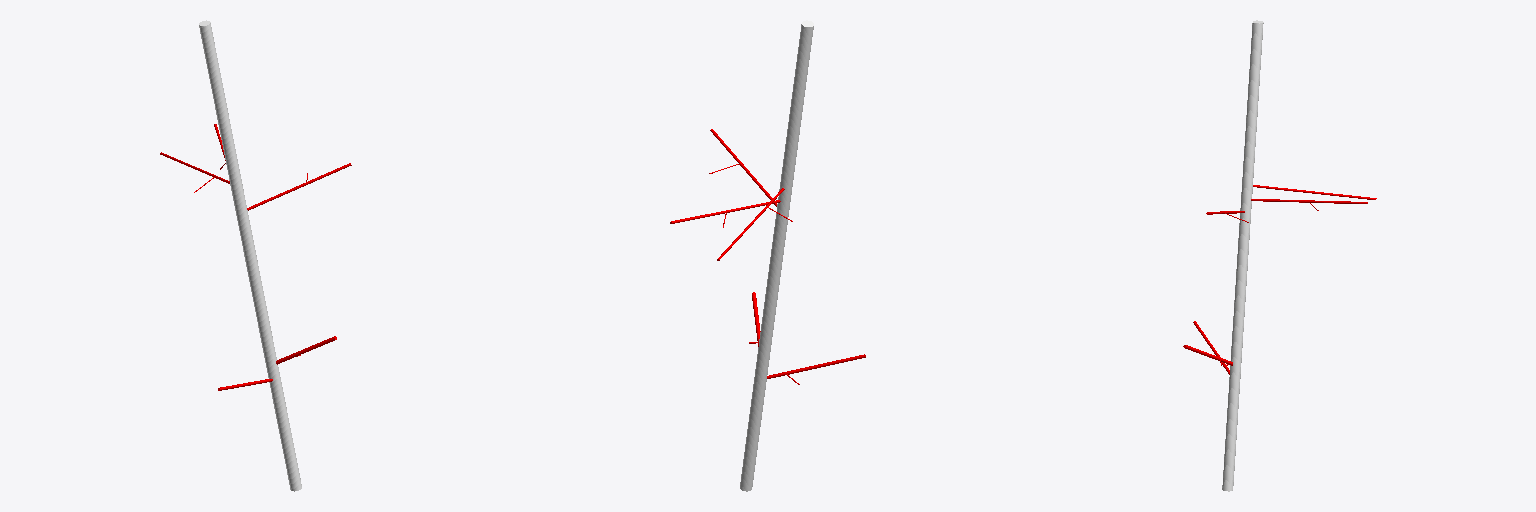
The robot description file, URDF, robot "tree_63.urdf":
<?xml version='1.0' encoding='UTF-8'?>
<robot name="tree_63.urdf">
  <link name="branch_0">
    <inertial>
      <origin xyz="0.0 0.0 0.0" rpy="0.0 -0.0 0.0"/>
      <mass value="0.1"/>
      <inertia ixx="0.001" ixy="0.0" ixz="0.0" iyy="0.001" iyz="0.0" izz="0.001"/>
    </inertial>
    <visual name="branch_0_visual">
      <geometry>
        <cylinder radius="0.12105753713156306" length="10.631295363433491"/>
      </geometry>
      <material name="branch_material"/>
      <origin xyz="-0.8742724112654354 0.33177418045635165 5.232751085253649" rpy="6.487470581802126e-18 0.1768362390169329 2.778894823752158"/>
    </visual>
    <collision name="branch_0_collision">
      <geometry>
        <cylinder radius="0.12105753713156306" length="10.631295363433491"/>
      </geometry>
      <origin xyz="-0.8742724112654354 0.33177418045635165 5.232751085253649" rpy="6.487470581802126e-18 0.1768362390169329 2.778894823752158"/>
    </collision>
  </link>
  <link name="branch_1">
    <inertial>
      <origin xyz="0.0 0.0 0.0" rpy="0.0 -0.0 0.0"/>
      <mass value="0.1"/>
      <inertia ixx="0.001" ixy="0.0" ixz="0.0" iyy="0.001" iyz="0.0" izz="0.001"/>
    </inertial>
    <visual name="branch_1_visual">
      <geometry>
        <cylinder radius="0.04098044504383719" length="1.6309681710873474"/>
      </geometry>
      <material name="semantic_material"/>
      <origin xyz="0.0 0.0 0.0" rpy="0.0 -0.0 0.0"/>
    </visual>
    <collision name="branch_1_collision">
      <geometry>
        <cylinder radius="0.04098044504383719" length="1.6309681710873474"/>
      </geometry>
      <origin xyz="0.0 0.0 0.0" rpy="0.0 -0.0 0.0"/>
    </collision>
  </link>
  <link name="branch_2">
    <inertial>
      <origin xyz="0.0 0.0 0.0" rpy="0.0 -0.0 0.0"/>
      <mass value="0.1"/>
      <inertia ixx="0.001" ixy="0.0" ixz="0.0" iyy="0.001" iyz="0.0" izz="0.001"/>
    </inertial>
    <visual name="branch_2_visual">
      <geometry>
        <cylinder radius="0.013123620799043575" length="0.22841701833227765"/>
      </geometry>
      <material name="semantic_material"/>
      <origin xyz="0.0 0.0 0.0" rpy="0.0 -0.0 0.0"/>
    </visual>
    <collision name="branch_2_collision">
      <geometry>
        <cylinder radius="0.013123620799043575" length="0.22841701833227765"/>
      </geometry>
      <origin xyz="0.0 0.0 0.0" rpy="0.0 -0.0 0.0"/>
    </collision>
  </link>
  <link name="branch_3">
    <inertial>
      <origin xyz="0.0 0.0 0.0" rpy="0.0 -0.0 0.0"/>
      <mass value="0.1"/>
      <inertia ixx="0.001" ixy="0.0" ixz="0.0" iyy="0.001" iyz="0.0" izz="0.001"/>
    </inertial>
    <visual name="branch_3_visual">
      <geometry>
        <cylinder radius="0.025696873363791516" length="2.8463541751777583"/>
      </geometry>
      <material name="semantic_material"/>
      <origin xyz="0.0 0.0 0.0" rpy="0.0 -0.0 0.0"/>
    </visual>
    <collision name="branch_3_collision">
      <geometry>
        <cylinder radius="0.025696873363791516" length="2.8463541751777583"/>
      </geometry>
      <origin xyz="0.0 0.0 0.0" rpy="0.0 -0.0 0.0"/>
    </collision>
  </link>
  <link name="branch_4">
    <inertial>
      <origin xyz="0.0 0.0 0.0" rpy="0.0 -0.0 0.0"/>
      <mass value="0.1"/>
      <inertia ixx="0.001" ixy="0.0" ixz="0.0" iyy="0.001" iyz="0.0" izz="0.001"/>
    </inertial>
    <visual name="branch_4_visual">
      <geometry>
        <cylinder radius="0.01" length="0.5804595315938993"/>
      </geometry>
      <material name="semantic_material"/>
      <origin xyz="0.0 0.0 0.0" rpy="0.0 -0.0 0.0"/>
    </visual>
    <collision name="branch_4_collision">
      <geometry>
        <cylinder radius="0.01" length="0.5804595315938993"/>
      </geometry>
      <origin xyz="0.0 0.0 0.0" rpy="0.0 -0.0 0.0"/>
    </collision>
  </link>
  <link name="branch_5">
    <inertial>
      <origin xyz="0.0 0.0 0.0" rpy="0.0 -0.0 0.0"/>
      <mass value="0.1"/>
      <inertia ixx="0.001" ixy="0.0" ixz="0.0" iyy="0.001" iyz="0.0" izz="0.001"/>
    </inertial>
    <visual name="branch_5_visual">
      <geometry>
        <cylinder radius="0.03337588684137949" length="2.083547441703245"/>
      </geometry>
      <material name="semantic_material"/>
      <origin xyz="0.0 0.0 0.0" rpy="0.0 -0.0 0.0"/>
    </visual>
    <collision name="branch_5_collision">
      <geometry>
        <cylinder radius="0.03337588684137949" length="2.083547441703245"/>
      </geometry>
      <origin xyz="0.0 0.0 0.0" rpy="0.0 -0.0 0.0"/>
    </collision>
  </link>
  <link name="branch_6">
    <inertial>
      <origin xyz="0.0 0.0 0.0" rpy="0.0 -0.0 0.0"/>
      <mass value="0.1"/>
      <inertia ixx="0.001" ixy="0.0" ixz="0.0" iyy="0.001" iyz="0.0" izz="0.001"/>
    </inertial>
    <visual name="branch_6_visual">
      <geometry>
        <cylinder radius="0.012158262400863913" length="0.4279583426136886"/>
      </geometry>
      <material name="semantic_material"/>
      <origin xyz="0.0 0.0 0.0" rpy="0.0 -0.0 0.0"/>
    </visual>
    <collision name="branch_6_collision">
      <geometry>
        <cylinder radius="0.012158262400863913" length="0.4279583426136886"/>
      </geometry>
      <origin xyz="0.0 0.0 0.0" rpy="0.0 -0.0 0.0"/>
    </collision>
  </link>
  <link name="branch_7">
    <inertial>
      <origin xyz="0.0 0.0 0.0" rpy="0.0 -0.0 0.0"/>
      <mass value="0.1"/>
      <inertia ixx="0.001" ixy="0.0" ixz="0.0" iyy="0.001" iyz="0.0" izz="0.001"/>
    </inertial>
    <visual name="branch_7_visual">
      <geometry>
        <cylinder radius="0.026980228412329485" length="2.8474984216901804"/>
      </geometry>
      <material name="semantic_material"/>
      <origin xyz="0.0 0.0 0.0" rpy="0.0 -0.0 0.0"/>
    </visual>
    <collision name="branch_7_collision">
      <geometry>
        <cylinder radius="0.026980228412329485" length="2.8474984216901804"/>
      </geometry>
      <origin xyz="0.0 0.0 0.0" rpy="0.0 -0.0 0.0"/>
    </collision>
  </link>
  <link name="branch_8">
    <inertial>
      <origin xyz="0.0 0.0 0.0" rpy="0.0 -0.0 0.0"/>
      <mass value="0.1"/>
      <inertia ixx="0.001" ixy="0.0" ixz="0.0" iyy="0.001" iyz="0.0" izz="0.001"/>
    </inertial>
    <visual name="branch_8_visual">
      <geometry>
        <cylinder radius="0.010521007544785865" length="0.32619024007486686"/>
      </geometry>
      <material name="semantic_material"/>
      <origin xyz="0.0 0.0 0.0" rpy="0.0 -0.0 0.0"/>
    </visual>
    <collision name="branch_8_collision">
      <geometry>
        <cylinder radius="0.010521007544785865" length="0.32619024007486686"/>
      </geometry>
      <origin xyz="0.0 0.0 0.0" rpy="0.0 -0.0 0.0"/>
    </collision>
  </link>
  <link name="branch_9">
    <inertial>
      <origin xyz="0.0 0.0 0.0" rpy="0.0 -0.0 0.0"/>
      <mass value="0.1"/>
      <inertia ixx="0.001" ixy="0.0" ixz="0.0" iyy="0.001" iyz="0.0" izz="0.001"/>
    </inertial>
    <visual name="branch_9_visual">
      <geometry>
        <cylinder radius="0.029510606303493444" length="2.403753368571655"/>
      </geometry>
      <material name="semantic_material"/>
      <origin xyz="0.0 0.0 0.0" rpy="0.0 -0.0 0.0"/>
    </visual>
    <collision name="branch_9_collision">
      <geometry>
        <cylinder radius="0.029510606303493444" length="2.403753368571655"/>
      </geometry>
      <origin xyz="0.0 0.0 0.0" rpy="0.0 -0.0 0.0"/>
    </collision>
  </link>
  <link name="branch_10">
    <inertial>
      <origin xyz="0.0 0.0 0.0" rpy="0.0 -0.0 0.0"/>
      <mass value="0.1"/>
      <inertia ixx="0.001" ixy="0.0" ixz="0.0" iyy="0.001" iyz="0.0" izz="0.001"/>
    </inertial>
    <visual name="branch_10_visual">
      <geometry>
        <cylinder radius="0.01" length="0.6733586346667695"/>
      </geometry>
      <material name="semantic_material"/>
      <origin xyz="0.0 0.0 0.0" rpy="0.0 -0.0 0.0"/>
    </visual>
    <collision name="branch_10_collision">
      <geometry>
        <cylinder radius="0.01" length="0.6733586346667695"/>
      </geometry>
      <origin xyz="0.0 0.0 0.0" rpy="0.0 -0.0 0.0"/>
    </collision>
  </link>
  <joint name="joint_0_1" type="fixed">
    <parent link="branch_0"/>
    <child link="branch_1"/>
    <axis xyz="1. 0. 0."/>
    <origin xyz="-0.0472953099877762 -0.3804571109466158 3.2125111162808495" rpy="0.16613502835091457 1.0167059965463214 -0.7317422359806786"/>
  </joint>
  <joint name="joint_0_3" type="fixed">
    <parent link="branch_0"/>
    <child link="branch_3"/>
    <axis xyz="1. 0. 0."/>
    <origin xyz="-1.2000182531723647 1.8399846735488168 6.615396963742027" rpy="-2.285150919158782 1.35688445223738 -0.6591916761530277"/>
  </joint>
  <joint name="joint_0_5" type="fixed">
    <parent link="branch_0"/>
    <child link="branch_5"/>
    <axis xyz="1. 0. 0."/>
    <origin xyz="-1.3126346008252932 -0.28463905986295546 2.7336803999950927" rpy="0.4641437931031675 1.2679212962761528 -2.2045286837661653"/>
  </joint>
  <joint name="joint_0_7" type="fixed">
    <parent link="branch_0"/>
    <child link="branch_7"/>
    <axis xyz="1. 0. 0."/>
    <origin xyz="-0.5990855523343038 1.7371758290167811 6.674613931782098" rpy="-0.935094460567954 1.3504078316119303 0.2731853967161569"/>
  </joint>
  <joint name="joint_0_9" type="fixed">
    <parent link="branch_0"/>
    <child link="branch_9"/>
    <axis xyz="1. 0. 0."/>
    <origin xyz="-0.01070611146037924 -0.022524398250008022 6.682273587196677" rpy="0.009718493217388496 1.1773915430041761 -0.3745701528085494"/>
  </joint>
  <joint name="joint_1_2" type="fixed">
    <parent link="branch_0"/>
    <child link="branch_2"/>
    <axis xyz="1. 0. 0."/>
    <origin xyz="-0.0991000111368957 -0.14807887807905645 3.02613470034499" rpy="1.8138531267021485 0.6516103893506242 1.860645066607462"/>
  </joint>
  <joint name="joint_3_4" type="fixed">
    <parent link="branch_0"/>
    <child link="branch_4"/>
    <axis xyz="1. 0. 0."/>
    <origin xyz="-1.4410637807443145 1.1983922334520907 6.593774471033936" rpy="1.9536099509232476 -0.14681225692629857 -1.5088129579788139"/>
  </joint>
  <joint name="joint_5_6" type="fixed">
    <parent link="branch_0"/>
    <child link="branch_6"/>
    <axis xyz="1. 0. 0."/>
    <origin xyz="-1.0352114707280886 0.02433427288602532 2.5491216661959197" rpy="-1.777724987947111 0.47995206388881384 1.0929260192835941"/>
  </joint>
  <joint name="joint_7_8" type="fixed">
    <parent link="branch_0"/>
    <child link="branch_8"/>
    <axis xyz="1. 0. 0."/>
    <origin xyz="-0.6111518972567874 1.870867511042015 6.555983481738626" rpy="2.6616996417813725 0.5595930529521375 -2.135538962084574"/>
  </joint>
  <joint name="joint_9_10" type="fixed">
    <parent link="branch_0"/>
    <child link="branch_10"/>
    <axis xyz="1. 0. 0."/>
    <origin xyz="0.3558240746777039 0.184373293678272 6.728692396637653" rpy="1.6949132572991028 0.4105682851388375 2.6318756210807406"/>
  </joint>
  <material name="branch_material">
    <color rgba="1. 1. 1. 1."/>
  </material>
  <material name="semantic_material">
    <color rgba="1. 0. 0. 1."/>
  </material>
</robot>

--- What the picture shows (computed from the rendered views, not written in the file) ---
The picture shows the robot from 3 angles, left to right: view 1: azimuth 30°, elevation 25°; view 2: azimuth 150°, elevation 25°; view 3: azimuth 270°, elevation 25°; orthographic projection.
Robot: tree_63.urdf — 11 links, 10 joints (10 fixed); root link branch_0; default pose: all joints at 0.
Visible links, largest first — view 1: branch_0; view 2: branch_0; view 3: branch_0.
Link boxes in pixels (<box>): branch_0: <box>199,20,301,491</box>; branch_0: <box>740,20,813,491</box>; branch_0: <box>1222,20,1263,491</box>.
Bounding box of the posed robot: 3.27 × 4.22 × 10.51 m (x, y, z).
Geometry: primitives only (box / cylinder / sphere), no mesh files.
